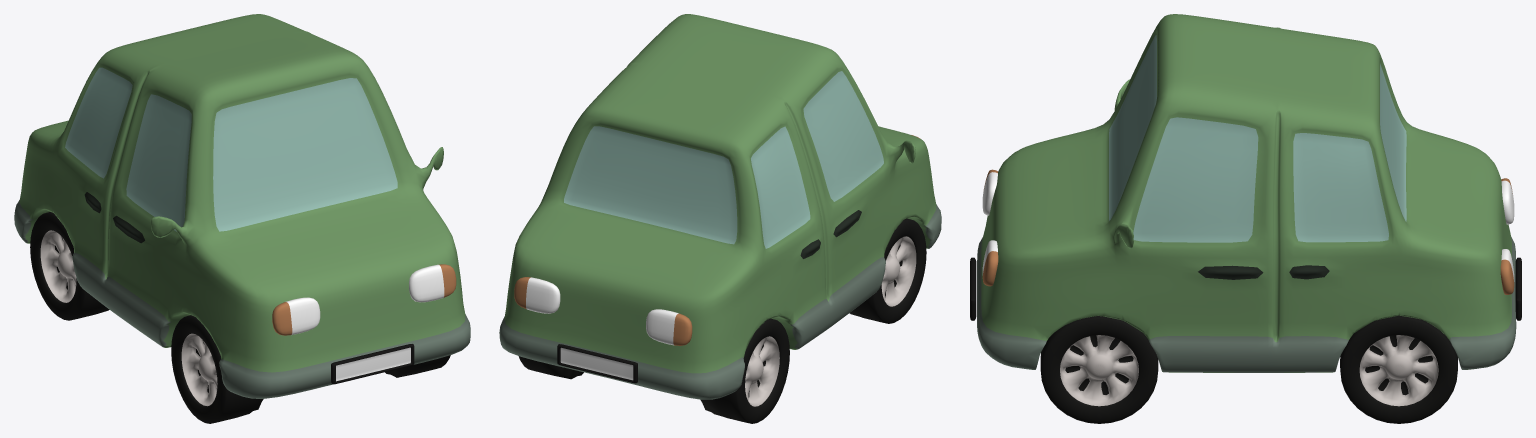
The model's file is cargreenfixed.fbx.
3 views of the same model, side by side, from view 1: azimuth 30°, elevation 25°; view 2: azimuth 150°, elevation 25°; view 3: azimuth 270°, elevation 25° (orthographic). The views are drawn at different scales.
Visible parts, largest first — view 1: Cube, Cylinder.006, Cube.004, Cube.002; view 2: Cube, Cylinder.006, Cube.004, Cube.002; view 3: Cube, Cylinder.006, Cube.004, Cube.002.
Boxes of the visible parts, left/top/right/bottom form: Cube: left=14, top=14, right=470, bottom=398; Cylinder.006: left=30, top=212, right=450, bottom=423; Cube.004: left=272, top=264, right=456, bottom=335; Cube.002: left=331, top=344, right=414, bottom=384; Cube: left=499, top=14, right=941, bottom=399; Cylinder.006: left=518, top=218, right=926, bottom=423; Cube.004: left=514, top=133, right=920, bottom=345; Cube.002: left=557, top=344, right=637, bottom=383; Cube: left=977, top=14, right=1516, bottom=372; Cylinder.006: left=1040, top=315, right=1457, bottom=423; Cube.004: left=982, top=169, right=1514, bottom=294; Cube.002: left=970, top=257, right=1521, bottom=320.
Bounding box in the file's own units: 479 × 466 × 737.
